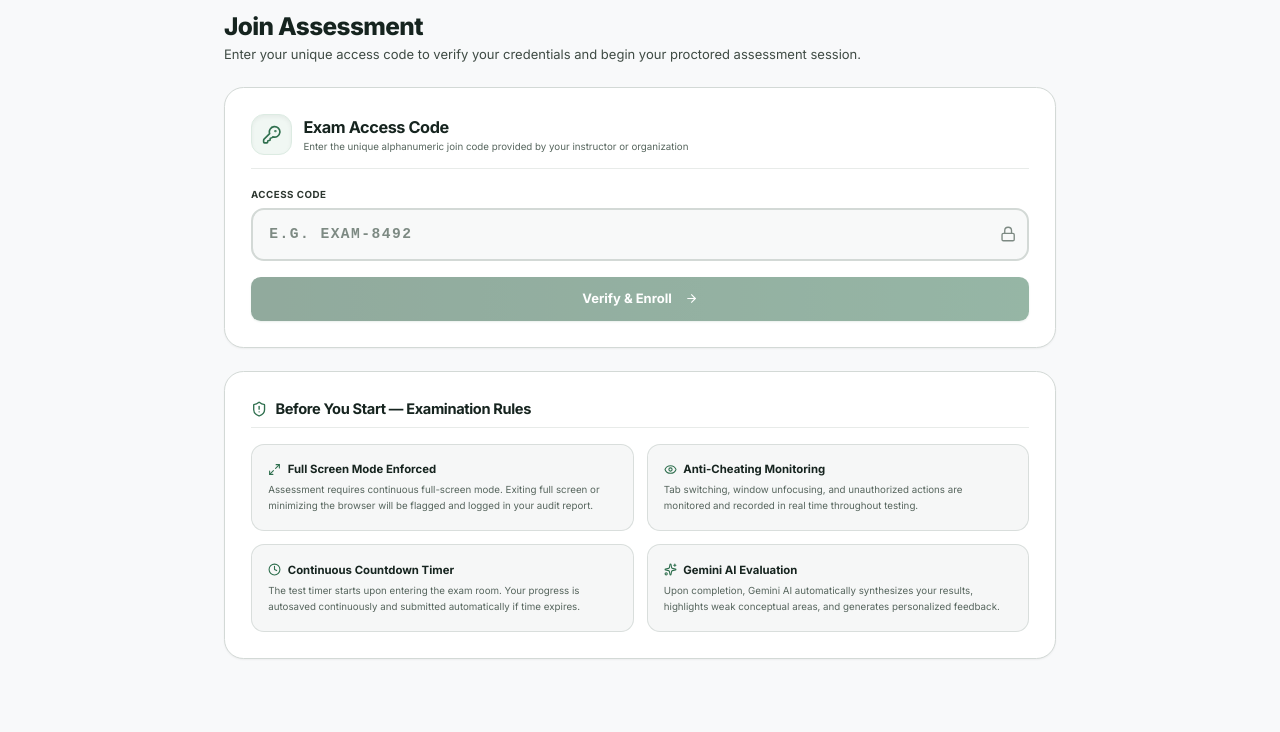
Test case: Batch 1: Comprehensive Candidate Portal Tests › Join Assessment Scenarios › formats future exam scheduled start time notice
The width and height of the screenshot is (1280, 732).
Type "FUTURE1" into the field with placeholder "e.g. EXAM-8492" at (640, 234), box [251,208,1029,261]
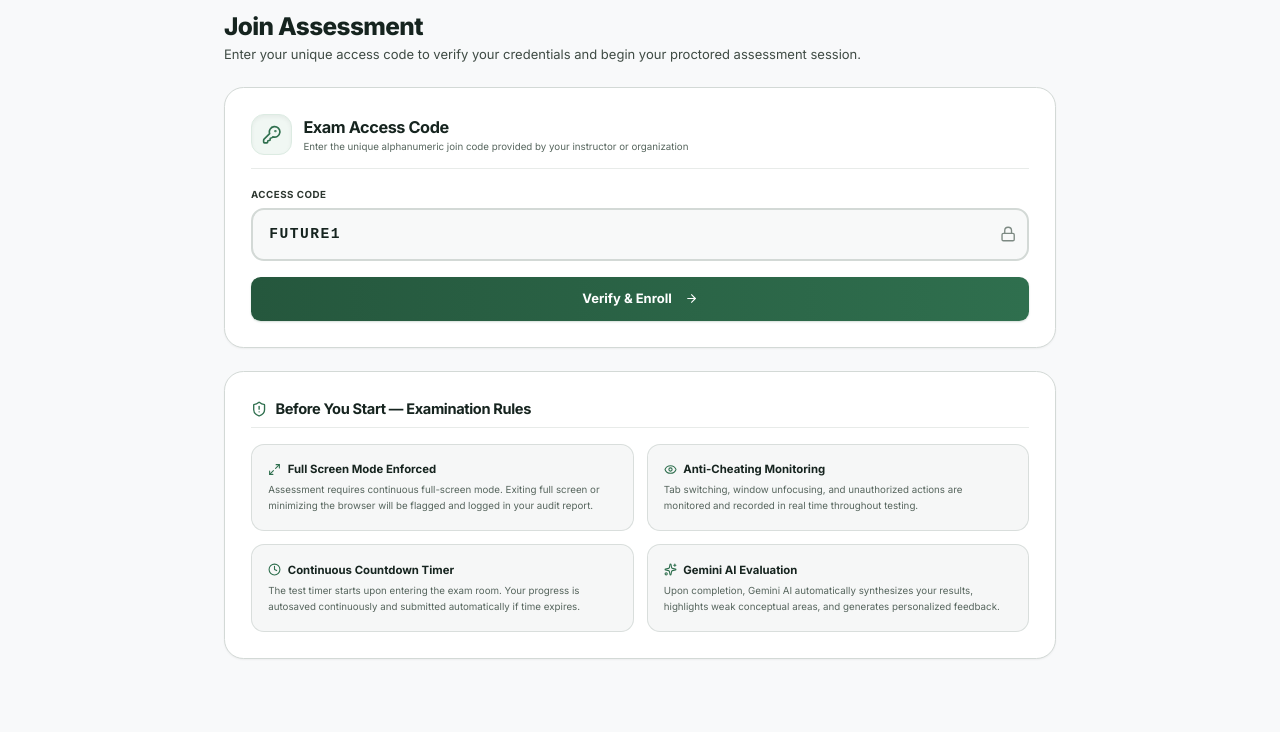
Submit the form with placeholder "e.g. EXAM-8492", box [251,188,1029,321]
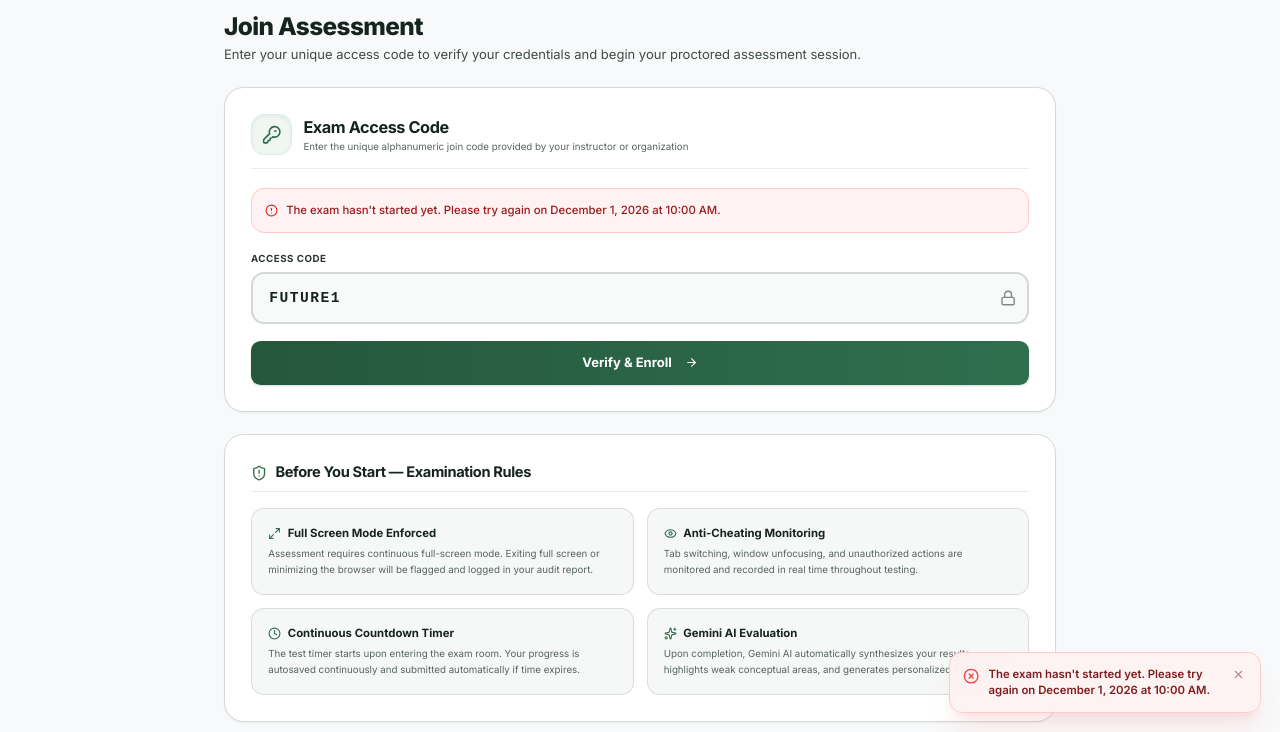
Expected: the text "The exam hasn't started yet" below "Exam Access Code" is shown, [286,203,721,217]
